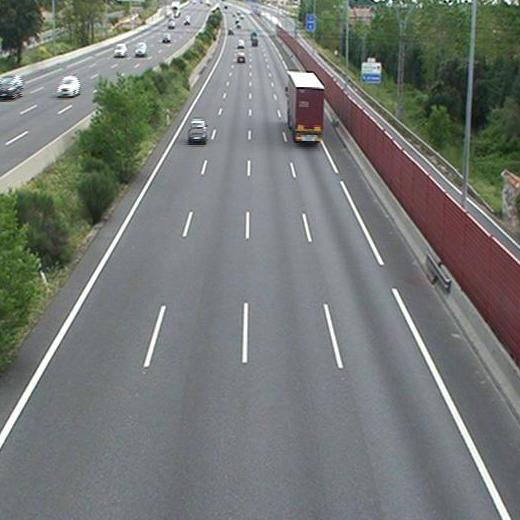car: (187, 121, 208, 141), (236, 53, 246, 62)
truck: (287, 71, 324, 141)
